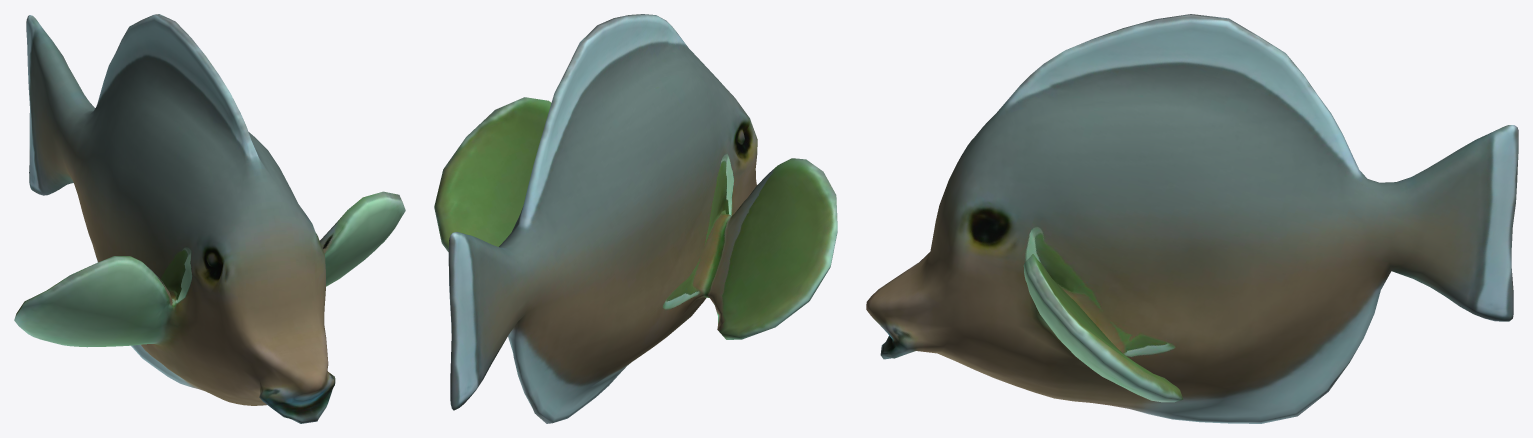
Rendered from fish_04.glb.
3 renders of one model, left to right at view 1: azimuth 30°, elevation 25°; view 2: azimuth 150°, elevation 25°; view 3: azimuth 270°, elevation 25°, orthographic. The views are drawn at different scales.
Parts seen in each view (by area): view 1: mesh; view 2: mesh; view 3: mesh.
Boxes of the visible parts, left/top/right/bottom form: mesh: left=14, top=14, right=405, bottom=423; mesh: left=434, top=14, right=837, bottom=423; mesh: left=866, top=14, right=1518, bottom=423.
Bounding box in the file's own units: 0.7462 × 0.6847 × 0.9963.
Materials: 1 (1 with a texture image).
